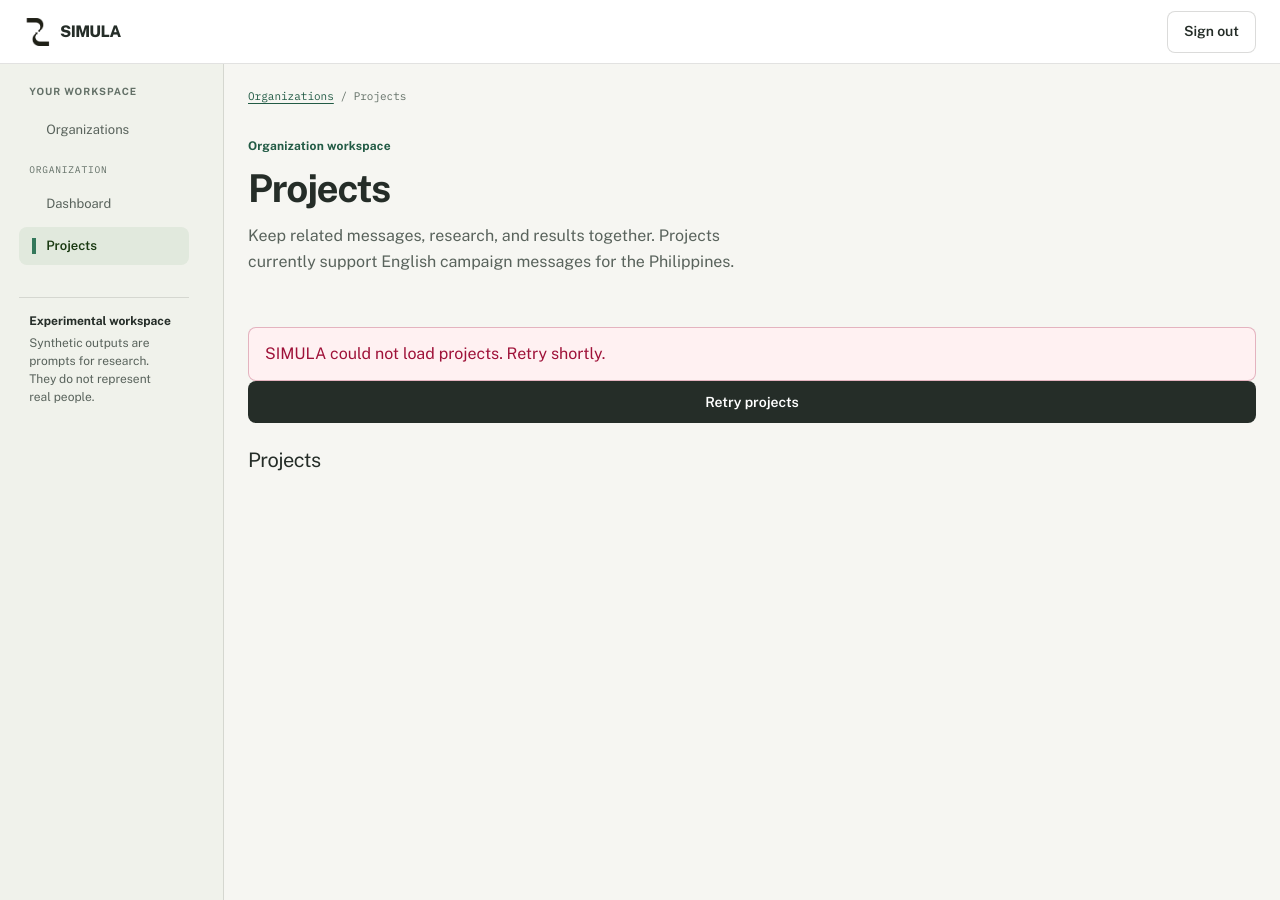
Test: ProjectsWorkspace async states › does not mislabel a failed load as empty and supports retry
Expected: the message shows "SIMULA could not load projects.", [265,344,605,363]
Expected: the text "No projects yet. Create the first project for this organization." is not shown
Click the button "Retry projects": (752, 402) [248,381,1256,423]
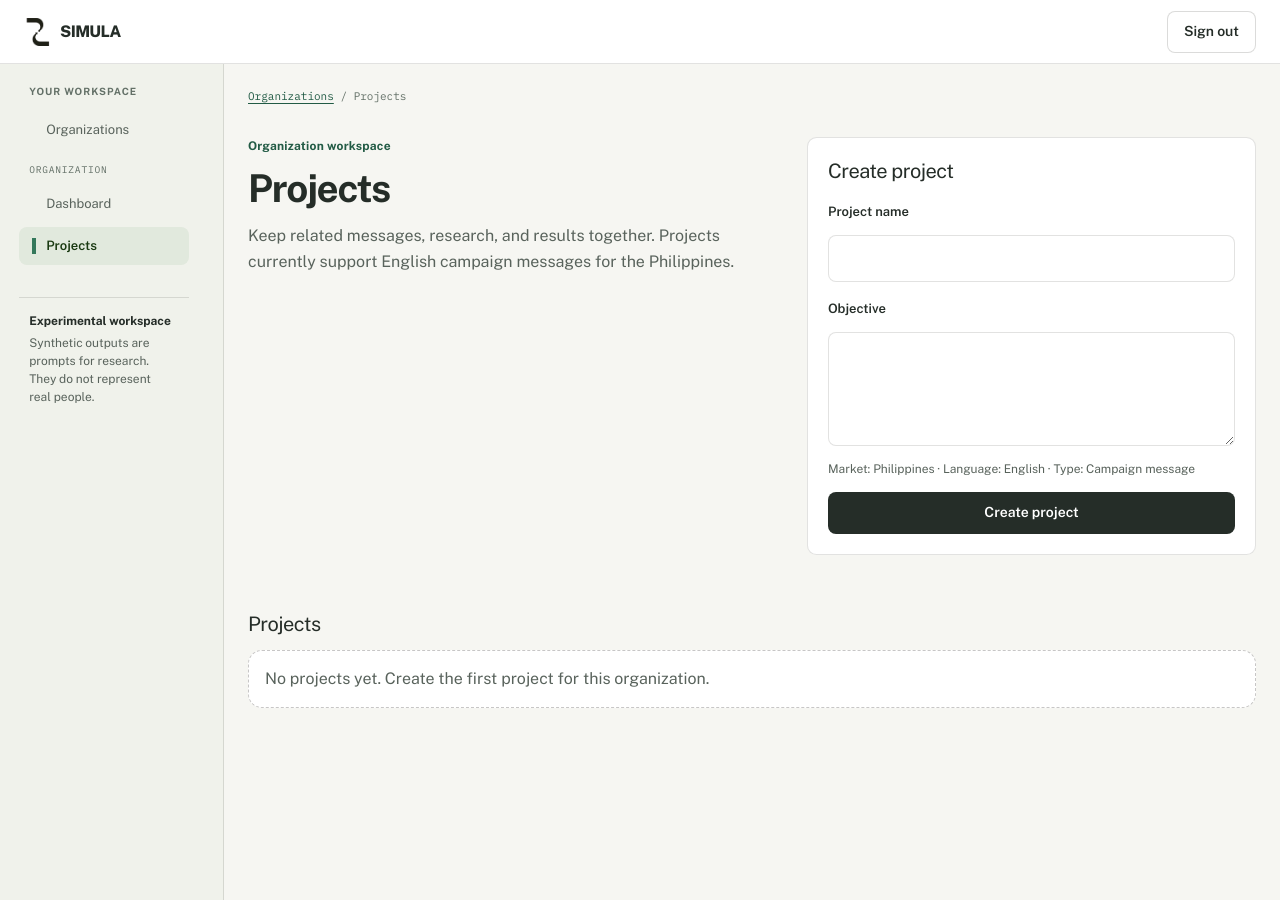
Now the text "No projects yet. Create the first project for this organization." is shown, box [248,650,1256,708]
Now the message "SIMULA could not load projects. Retry shortly." is gone
